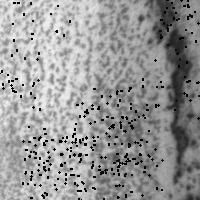pitted_surface: (1, 1, 159, 198), (155, 21, 195, 187), (25, 137, 85, 197), (138, 58, 198, 117), (79, 110, 139, 169), (101, 116, 161, 174), (72, 87, 130, 146), (22, 126, 81, 184), (106, 139, 161, 196), (67, 156, 125, 200), (0, 49, 39, 108), (12, 0, 70, 39), (160, 0, 200, 54), (159, 0, 200, 40)
